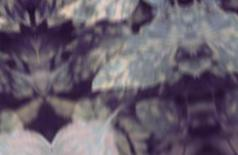Tomato mold leaf: (80, 6, 197, 98), (48, 117, 128, 155), (61, 0, 142, 26)
